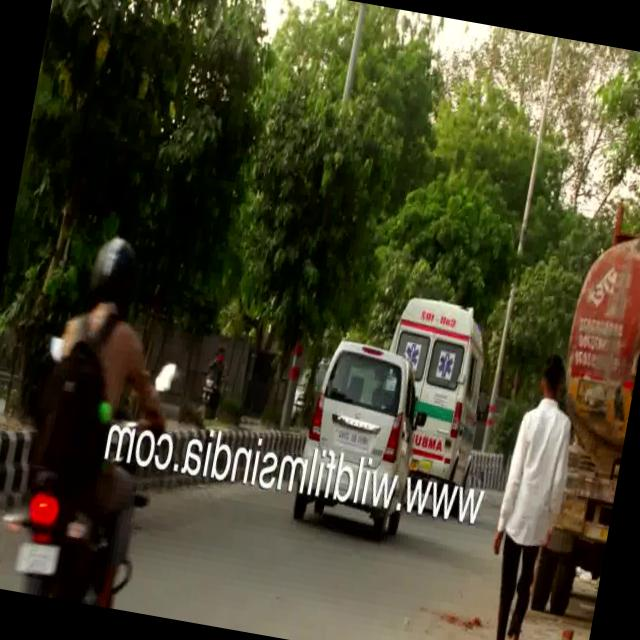ambulance: (396, 276, 515, 520)
